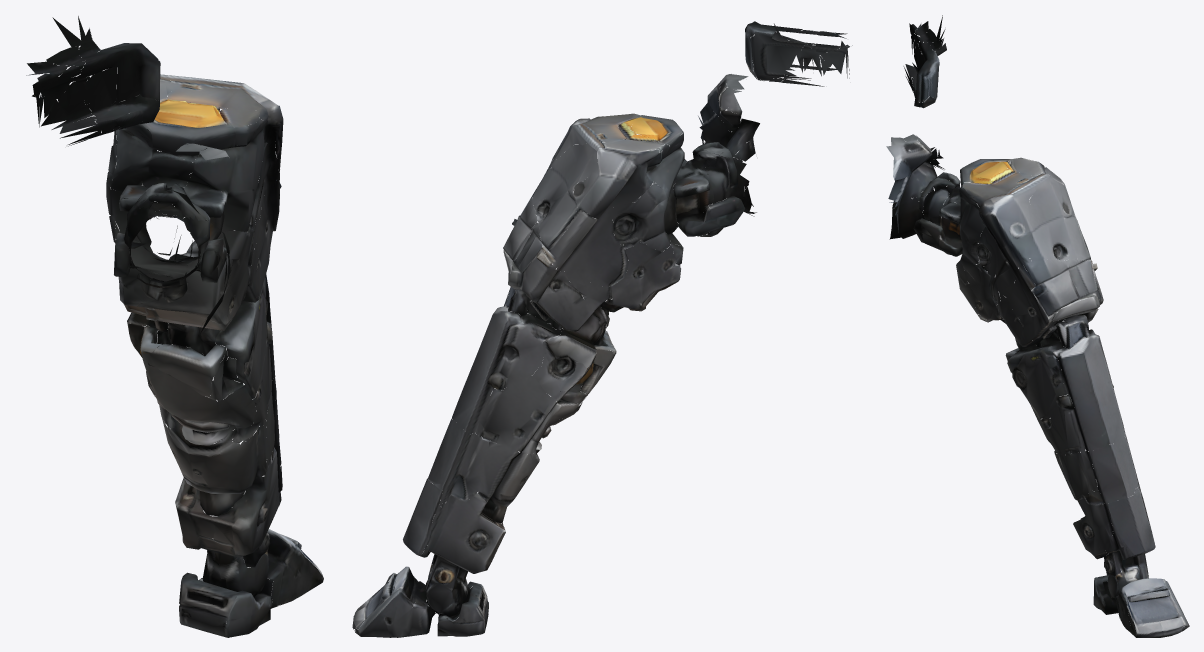
Rendered from GM_QuadCannon_Walker_Arm_L.glb.
The picture shows the model from 3 angles, left to right: view 1: azimuth 30°, elevation 25°; view 2: azimuth 150°, elevation 25°; view 3: azimuth 270°, elevation 25°; orthographic projection. The views are drawn at different scales.
Parts seen in each view (by area): view 1: GM_QuadCannon_Walker_Arm_L; view 2: GM_QuadCannon_Walker_Arm_L; view 3: GM_QuadCannon_Walker_Arm_L.
Part boxes in pixels (x1=…): GM_QuadCannon_Walker_Arm_L: x1=26, y1=16, x2=323, y2=637; GM_QuadCannon_Walker_Arm_L: x1=352, y1=21, x2=852, y2=637; GM_QuadCannon_Walker_Arm_L: x1=886, y1=15, x2=1189, y2=637.
Size of the model in its own units: 0.4267 by 0.6658 by 0.3695.
1 material, 1 textured.
